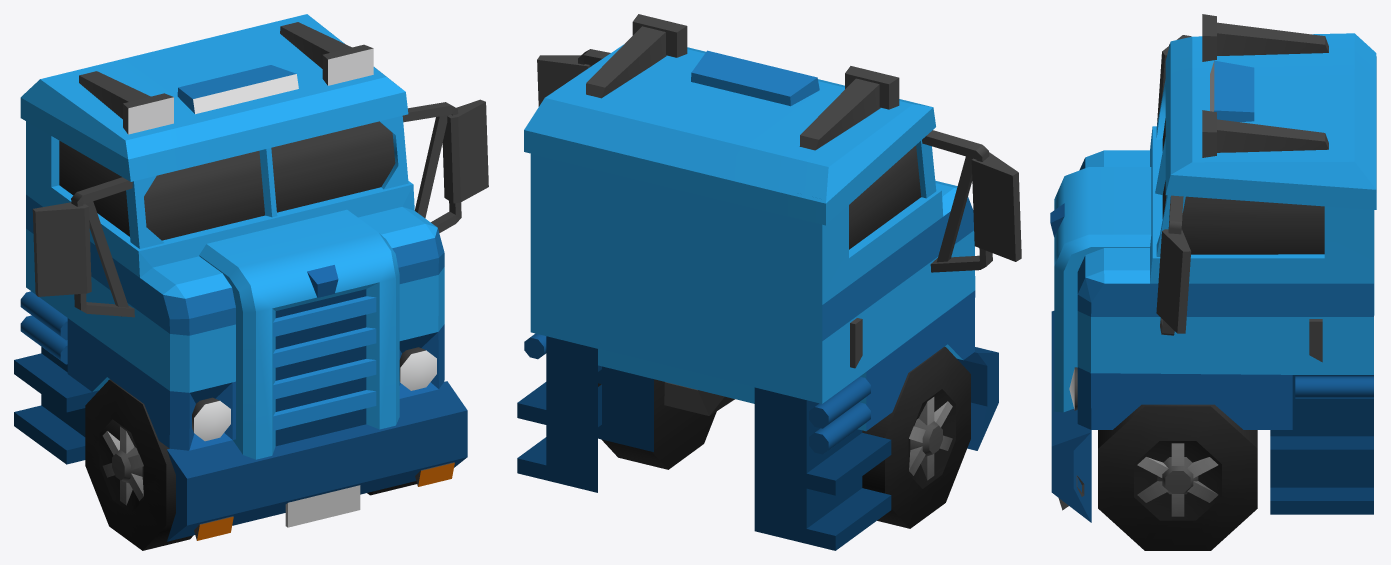
The model's file is head_H_2.fbx.
The picture shows the model from 3 angles, left to right: view 1: azimuth 30°, elevation 25°; view 2: azimuth 150°, elevation 25°; view 3: azimuth 270°, elevation 25°; orthographic projection. The views are drawn at different scales.
Parts seen in each view (by area): view 1: head_H_2; view 2: head_H_2; view 3: head_H_2.
Boxes of the visible parts, bbox=[...] form: head_H_2: bbox=[14, 14, 488, 550]; head_H_2: bbox=[517, 14, 1021, 550]; head_H_2: bbox=[1050, 14, 1376, 550].
Size of the model in its own units: 1813 by 1606 by 1153.
